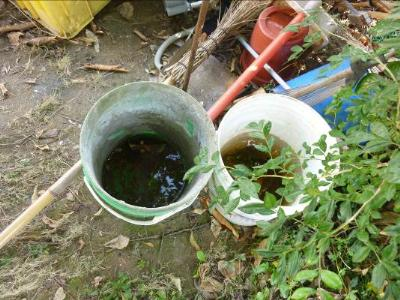bucket: (79, 80, 218, 224), (216, 91, 341, 227), (241, 5, 311, 86)
